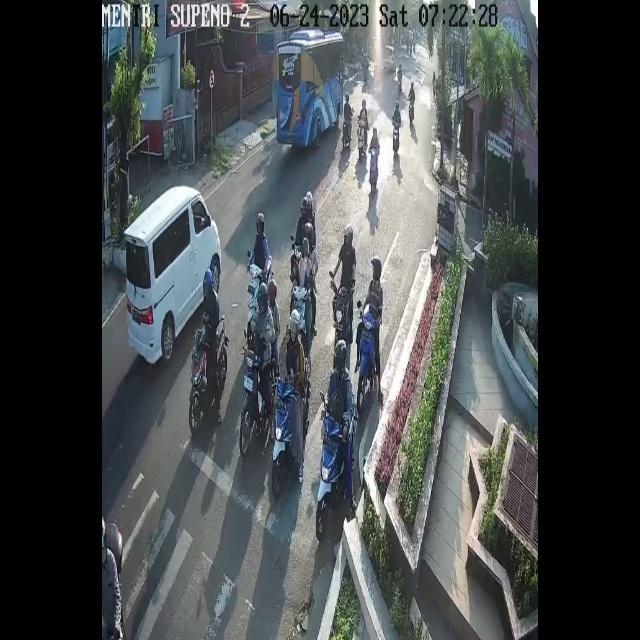bus: (314, 412, 356, 542), (270, 374, 312, 501), (237, 343, 278, 457), (192, 312, 228, 432), (360, 314, 380, 414), (245, 262, 263, 326), (332, 290, 352, 346), (288, 238, 308, 280), (365, 144, 381, 193), (338, 110, 355, 153), (355, 115, 367, 164), (292, 282, 306, 323), (391, 118, 404, 154), (408, 92, 415, 124)
car: (274, 30, 342, 155)
motorcycle: (122, 185, 222, 365)
